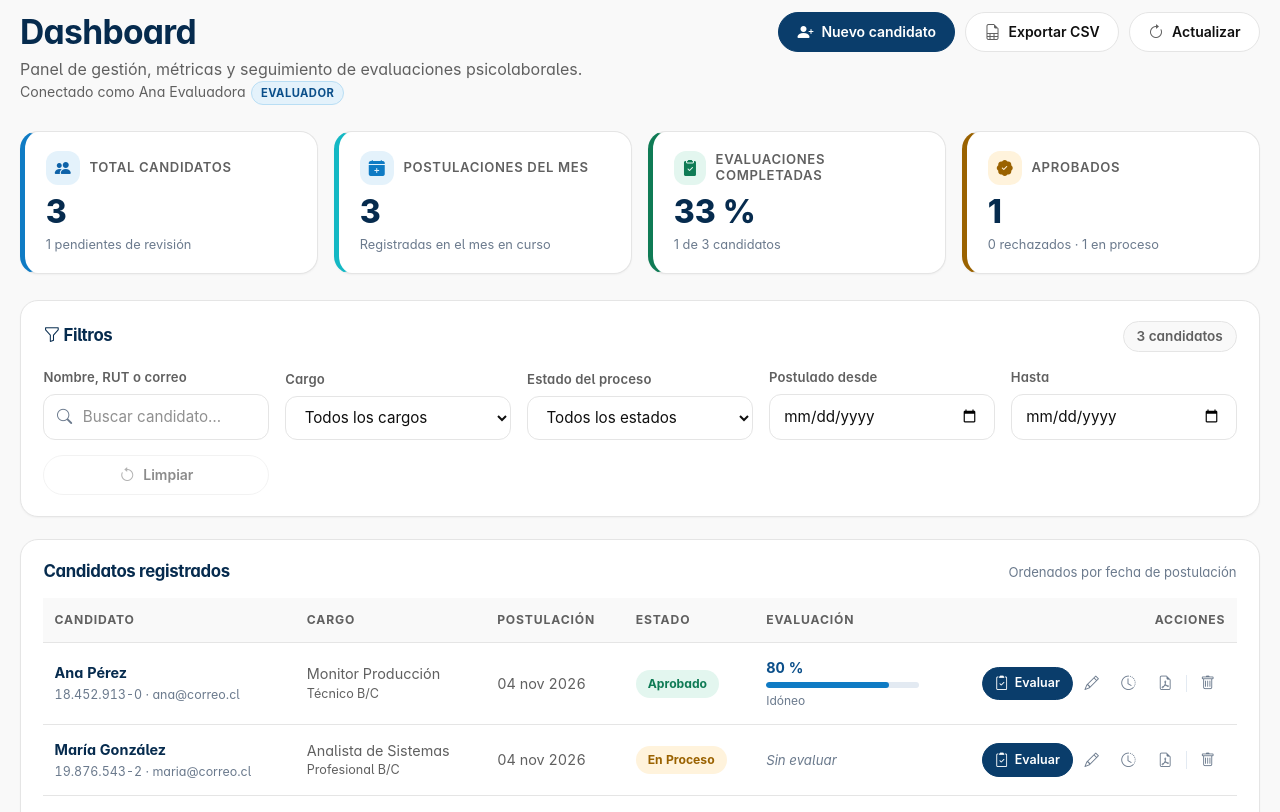
Scenario: Dashboard › filtra por nombre sin distinguir tildes
In the search field labelled "Nombre, RUT o correo": (156, 417) [43,394,269,440], type "maria"
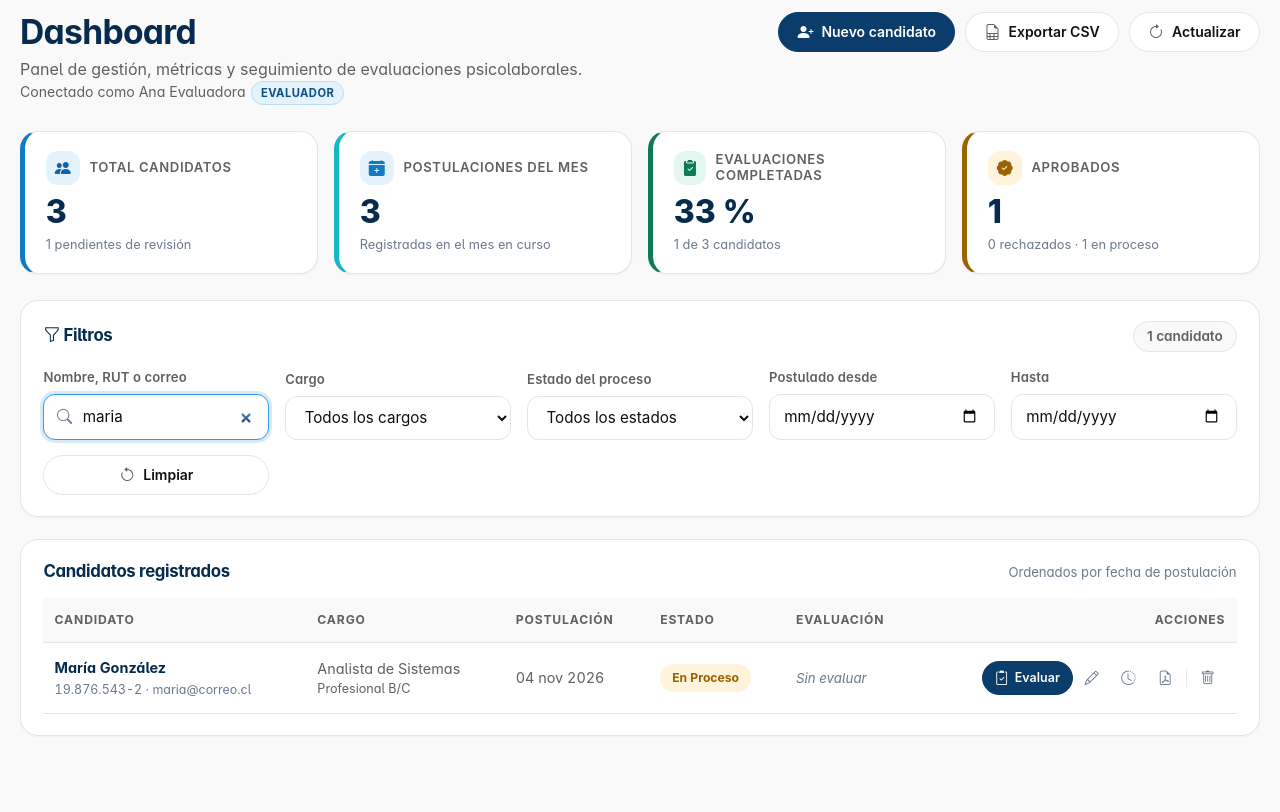
Expected: the text "María González" is shown, [55,659,166,676]
Expected: the text "Ana Pérez" is gone
Expected: the text "1 candidato" is shown, [1133,321,1237,352]
